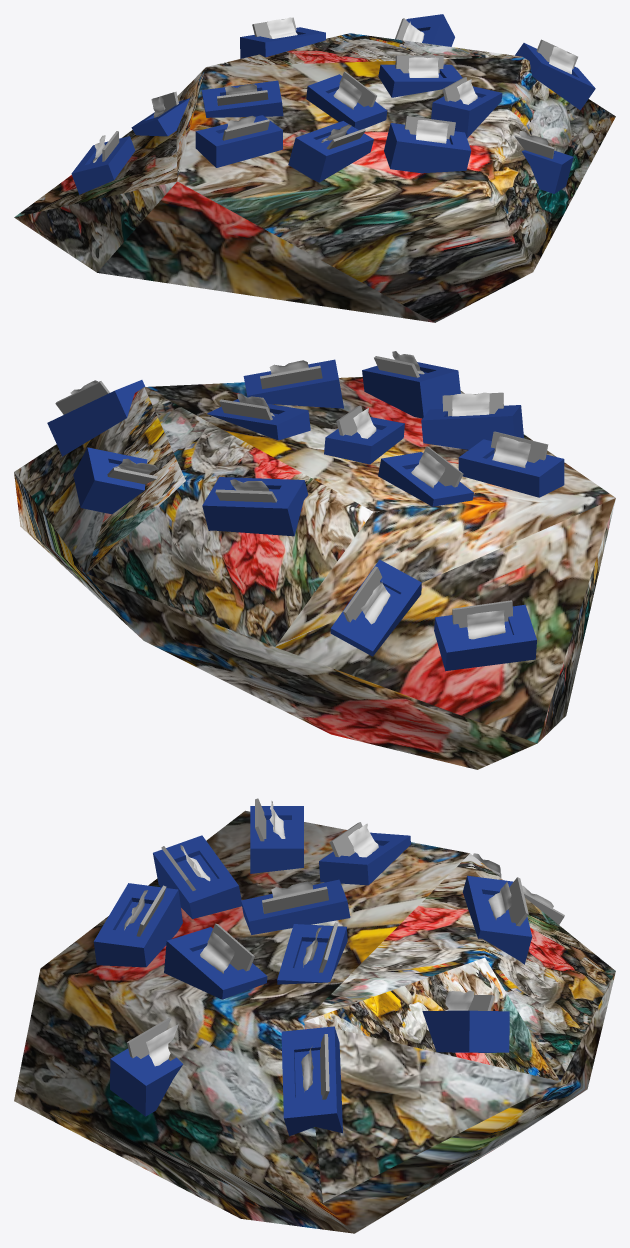
File: CHECKSKRALD4.fbx
3 renders of one model, top to bottom at view 1: azimuth 30°, elevation 25°; view 2: azimuth 150°, elevation 25°; view 3: azimuth 270°, elevation 25°, orthographic. The views are drawn at different scales.
Visible parts, largest first — view 1: Icosphere; view 2: Icosphere; view 3: Icosphere.
Boxes of the visible parts, left/top/right/bottom form: Icosphere: left=14, top=14, right=615, bottom=322; Icosphere: left=14, top=351, right=615, bottom=769; Icosphere: left=14, top=798, right=615, bottom=1233.
Bounding box in the file's own units: 139 × 47.38 × 107.
Materials: 4 (1 with a texture image).
